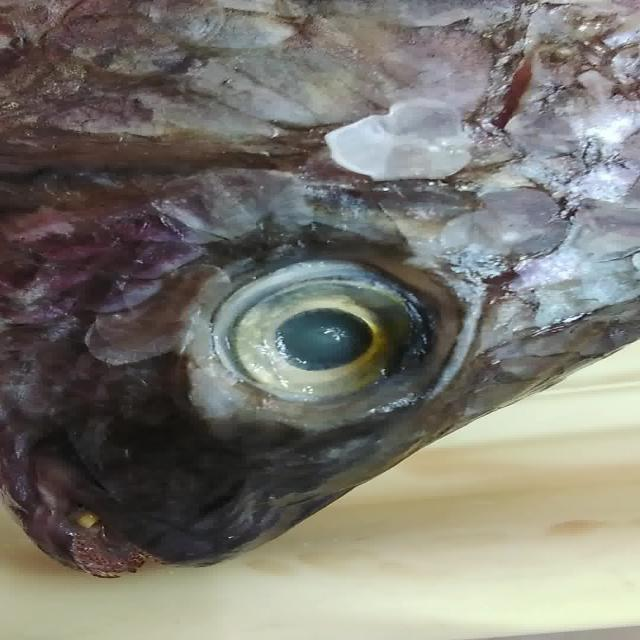Non-Fresh: (14, 4, 628, 232), (223, 230, 444, 439)
